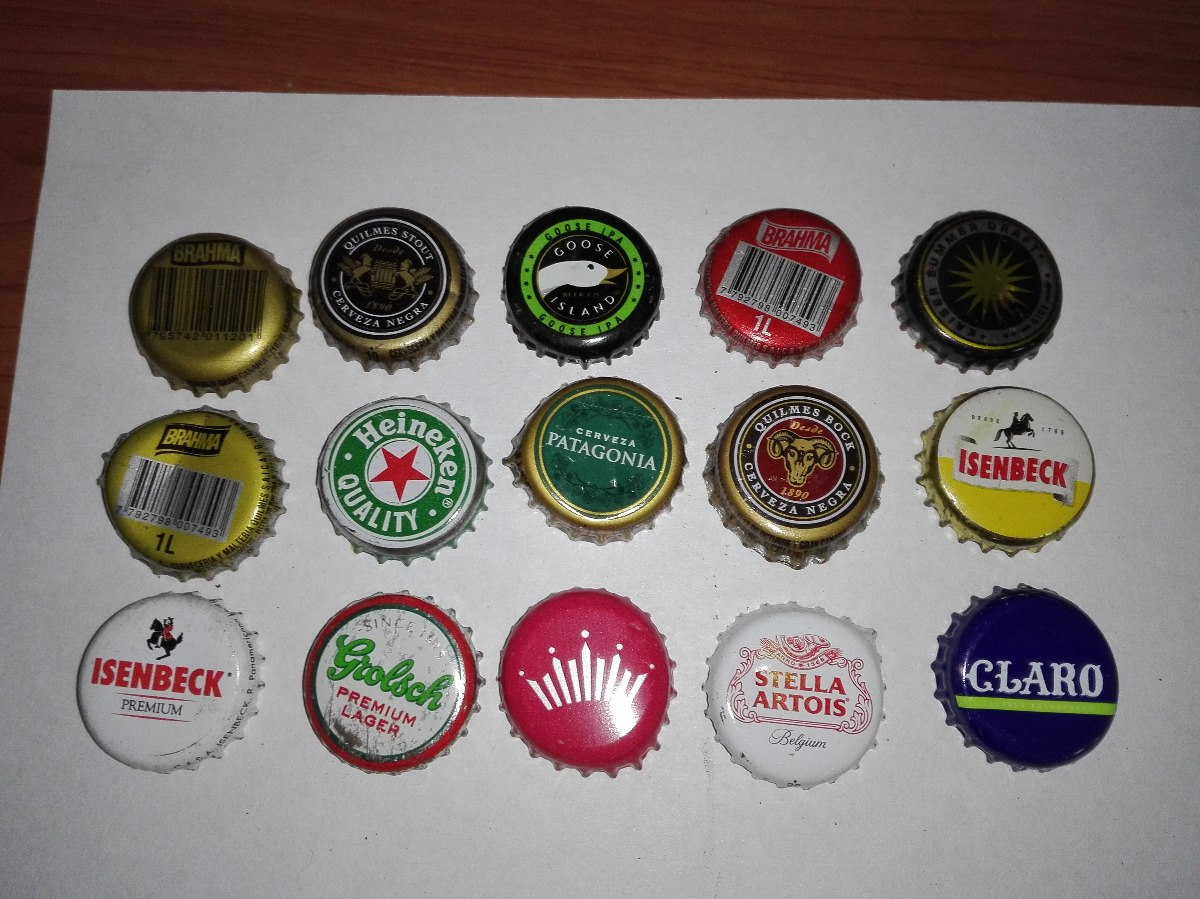heineken: (312, 393, 492, 568)
